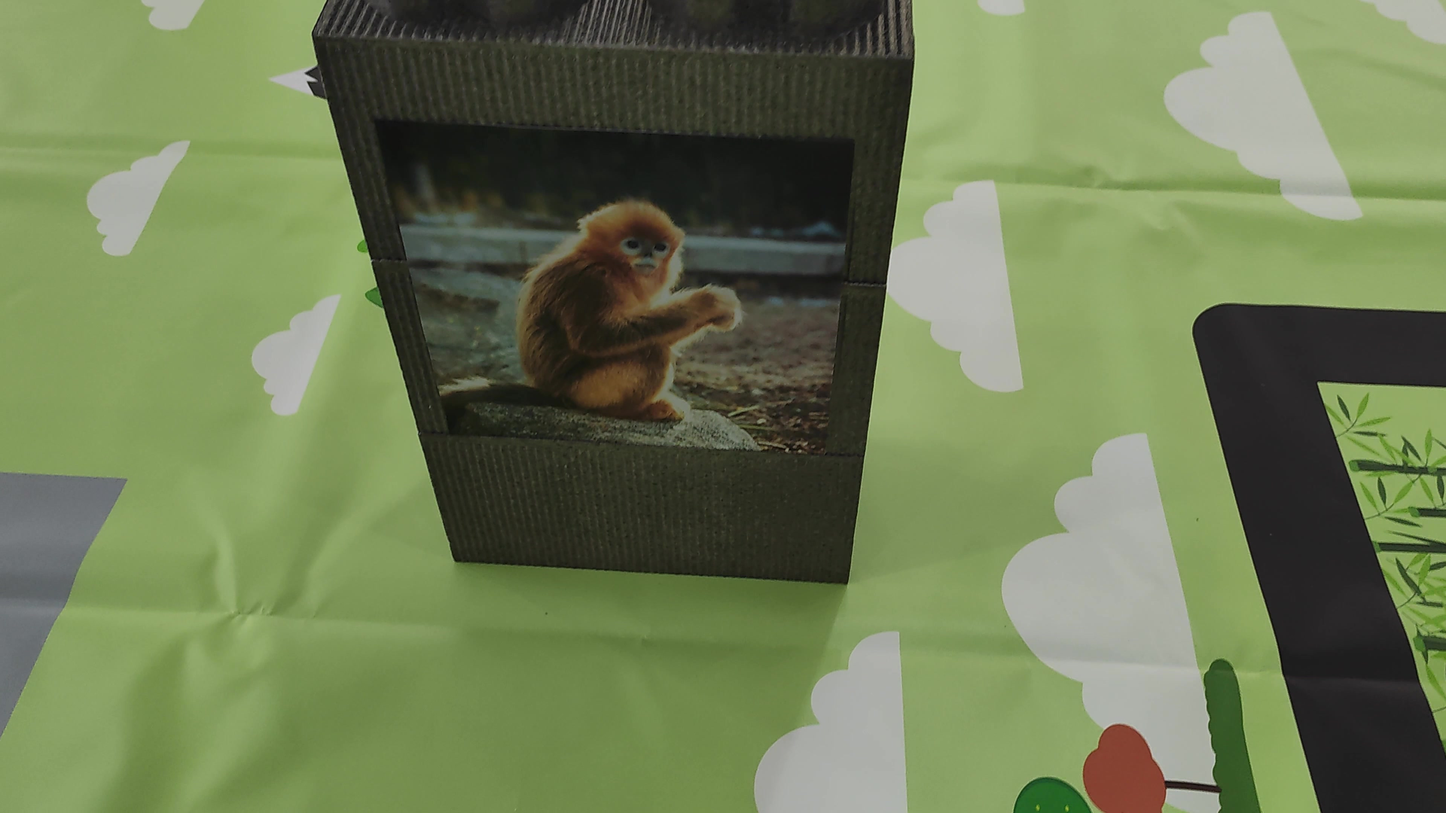monkey: (454, 144, 787, 437)
